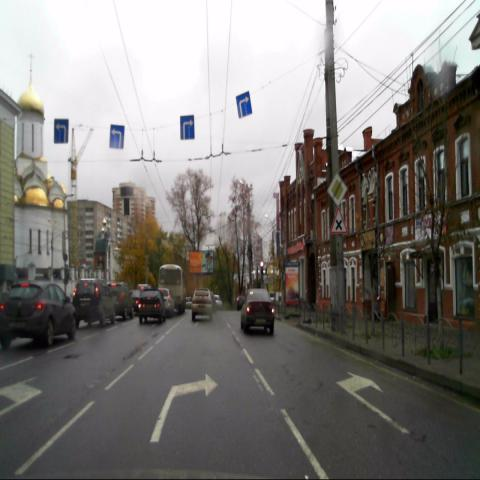1_6: (330, 206, 348, 234)
2_2: (327, 172, 347, 206)
